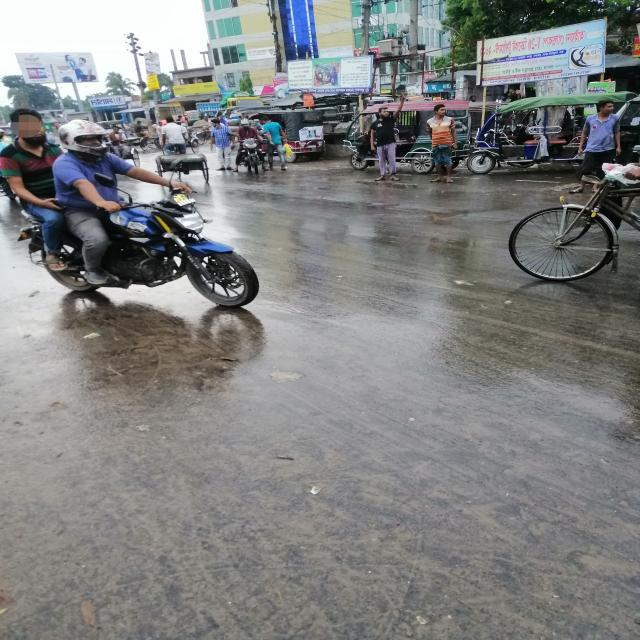Motorbike: (6, 157, 264, 312), (235, 135, 273, 175)
